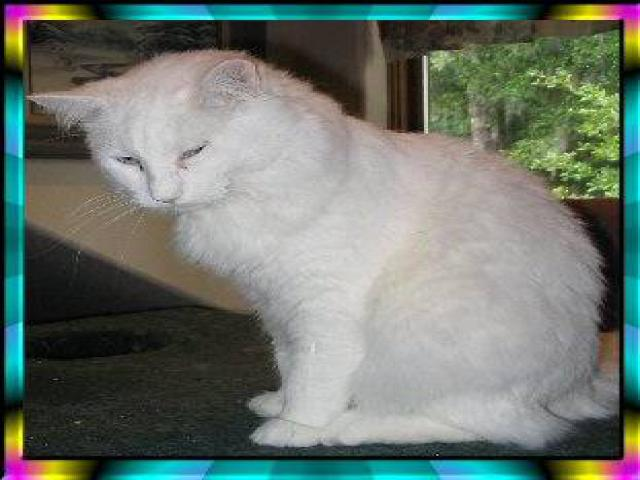cat: (22, 43, 615, 448)
